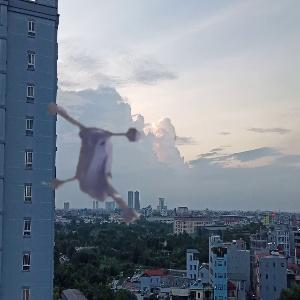drone: (35, 96, 194, 255)
